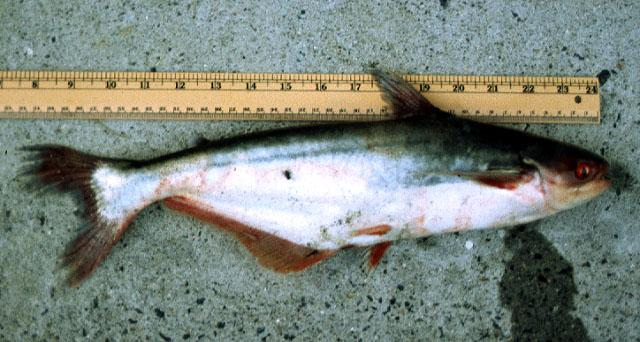Mulut: (590, 144, 624, 198)
Sirip Anal: (163, 183, 327, 283)
Sirip Dada: (442, 158, 532, 192)
Sirip Ekor: (18, 128, 134, 298)
Sirip Perut: (352, 208, 402, 278)
Sirip Punggung: (365, 56, 435, 120)
